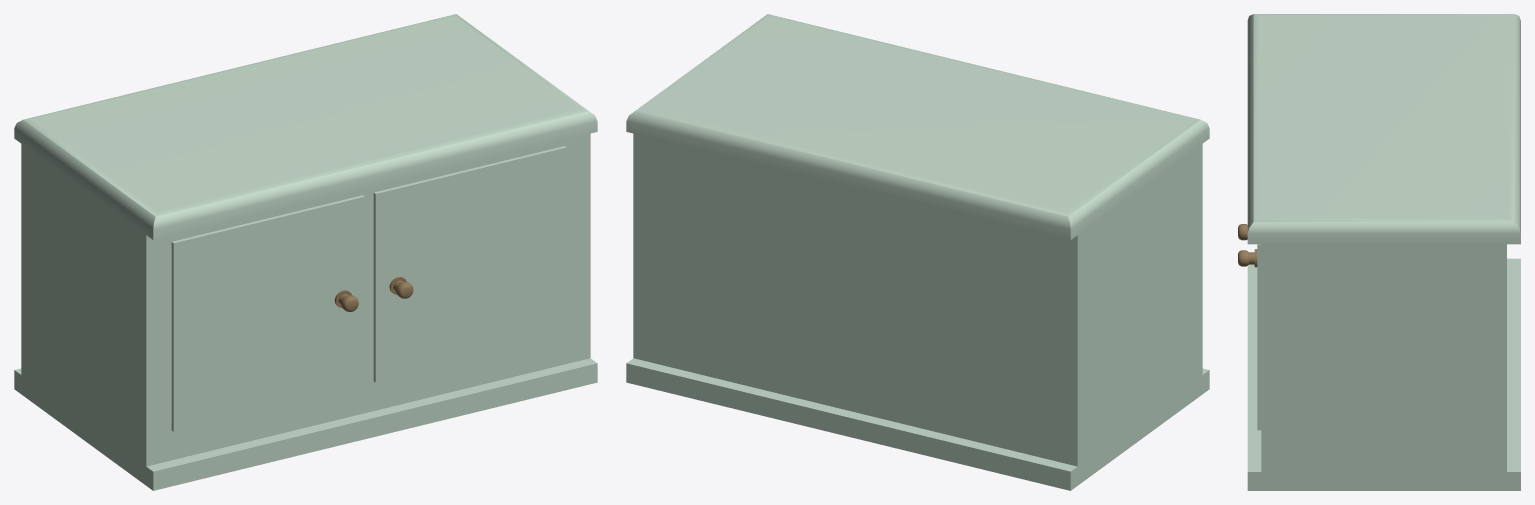
File: station 1.fbx
3 views of the same model, side by side, from view 1: azimuth 30°, elevation 25°; view 2: azimuth 150°, elevation 25°; view 3: azimuth 270°, elevation 25° (orthographic).
Parts seen in each view (by area): view 1: group1_cabinet_base1; view 2: group1_cabinet_base1; view 3: group1_cabinet_base1.
Part boxes in pixels (box(x1,y1,x2,y2)): group1_cabinet_base1: box(14, 14, 597, 490); group1_cabinet_base1: box(626, 14, 1209, 490); group1_cabinet_base1: box(1238, 14, 1520, 490).
Size of the model in its own units: 99.74 by 58.36 by 55.86.
